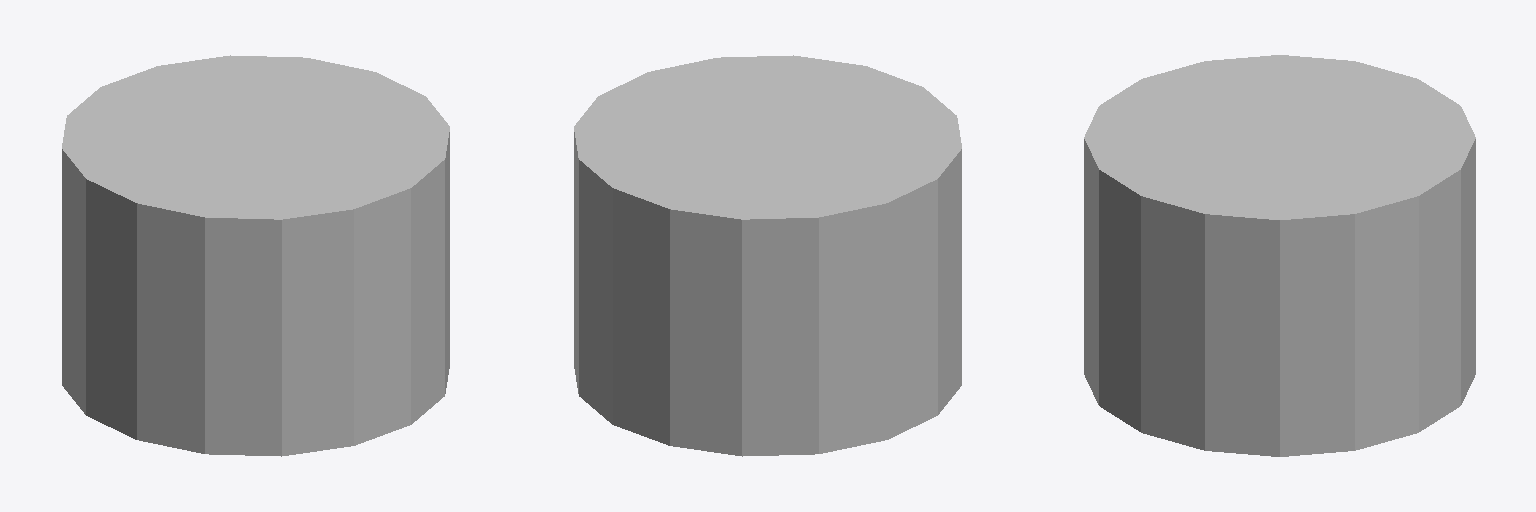
The model's file is Bumper1.obj.
3 renders of one model, left to right at view 1: azimuth 30°, elevation 25°; view 2: azimuth 150°, elevation 25°; view 3: azimuth 270°, elevation 25°, orthographic.
Parts seen in each view (by area): view 1: Cylinder_Cylinder.001; view 2: Cylinder_Cylinder.001; view 3: Cylinder_Cylinder.001.
Boxes of the visible parts, box(x1,y1,x2,y2) form: Cylinder_Cylinder.001: box(62, 55, 449, 456); Cylinder_Cylinder.001: box(574, 55, 961, 456); Cylinder_Cylinder.001: box(1084, 55, 1475, 456).
Bounding box in the file's own units: 1.5 × 1 × 1.5.